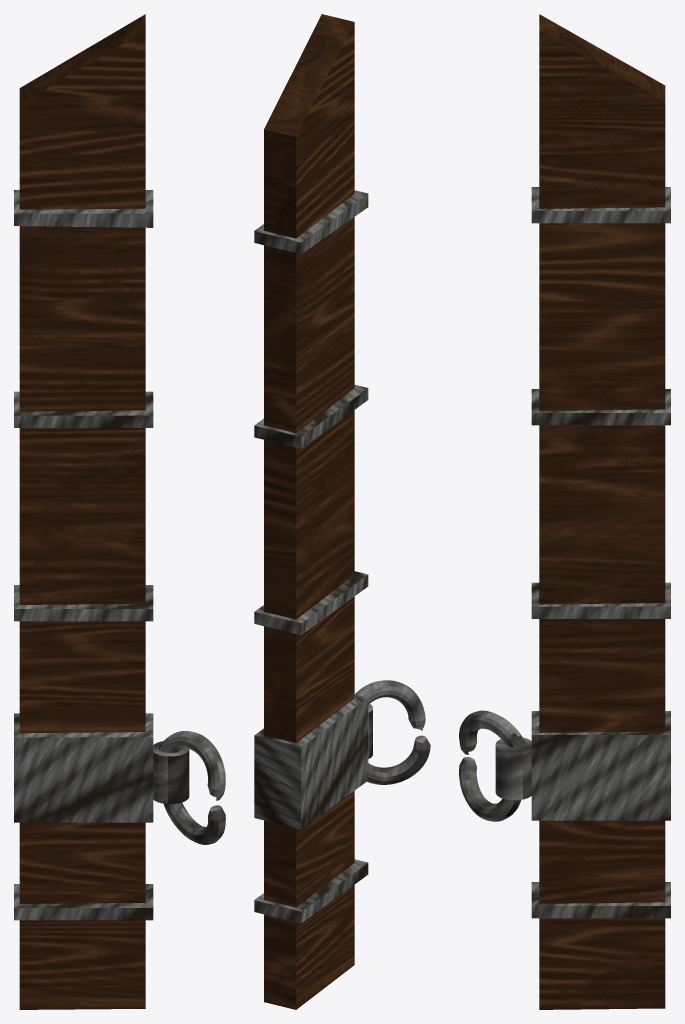
Rendered from ScabbardOnly.fbx.
3 views of the same model, side by side, from view 1: azimuth 90°, elevation 25°; view 2: azimuth 150°, elevation 25°; view 3: azimuth 270°, elevation 25° (orthographic). The views are drawn at different scales.
Visible parts, largest first — view 1: rope_Plane.014; view 2: rope_Plane.014; view 3: rope_Plane.014.
Part boxes in pixels (box(x1,y1,x2,y2)): rope_Plane.014: box(14, 14, 225, 1009); rope_Plane.014: box(254, 14, 430, 1009); rope_Plane.014: box(459, 14, 670, 1009).
Bounding box in the file's own units: 711 × 8231 × 1615.
